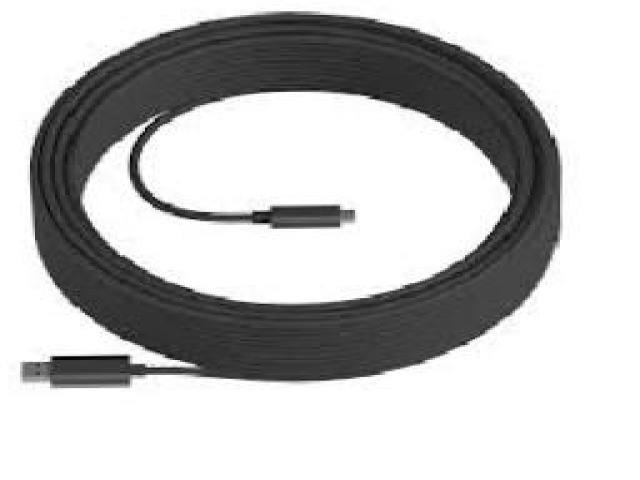wire: (22, 13, 560, 386)
